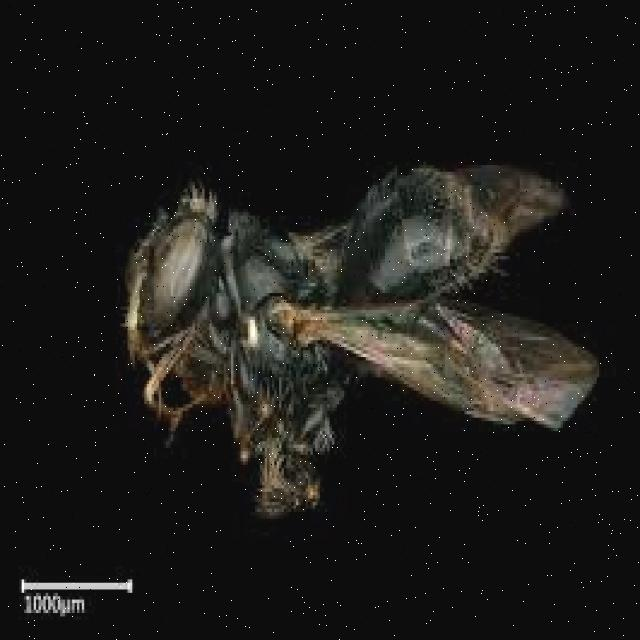Braunsapis: (102, 133, 605, 528)
